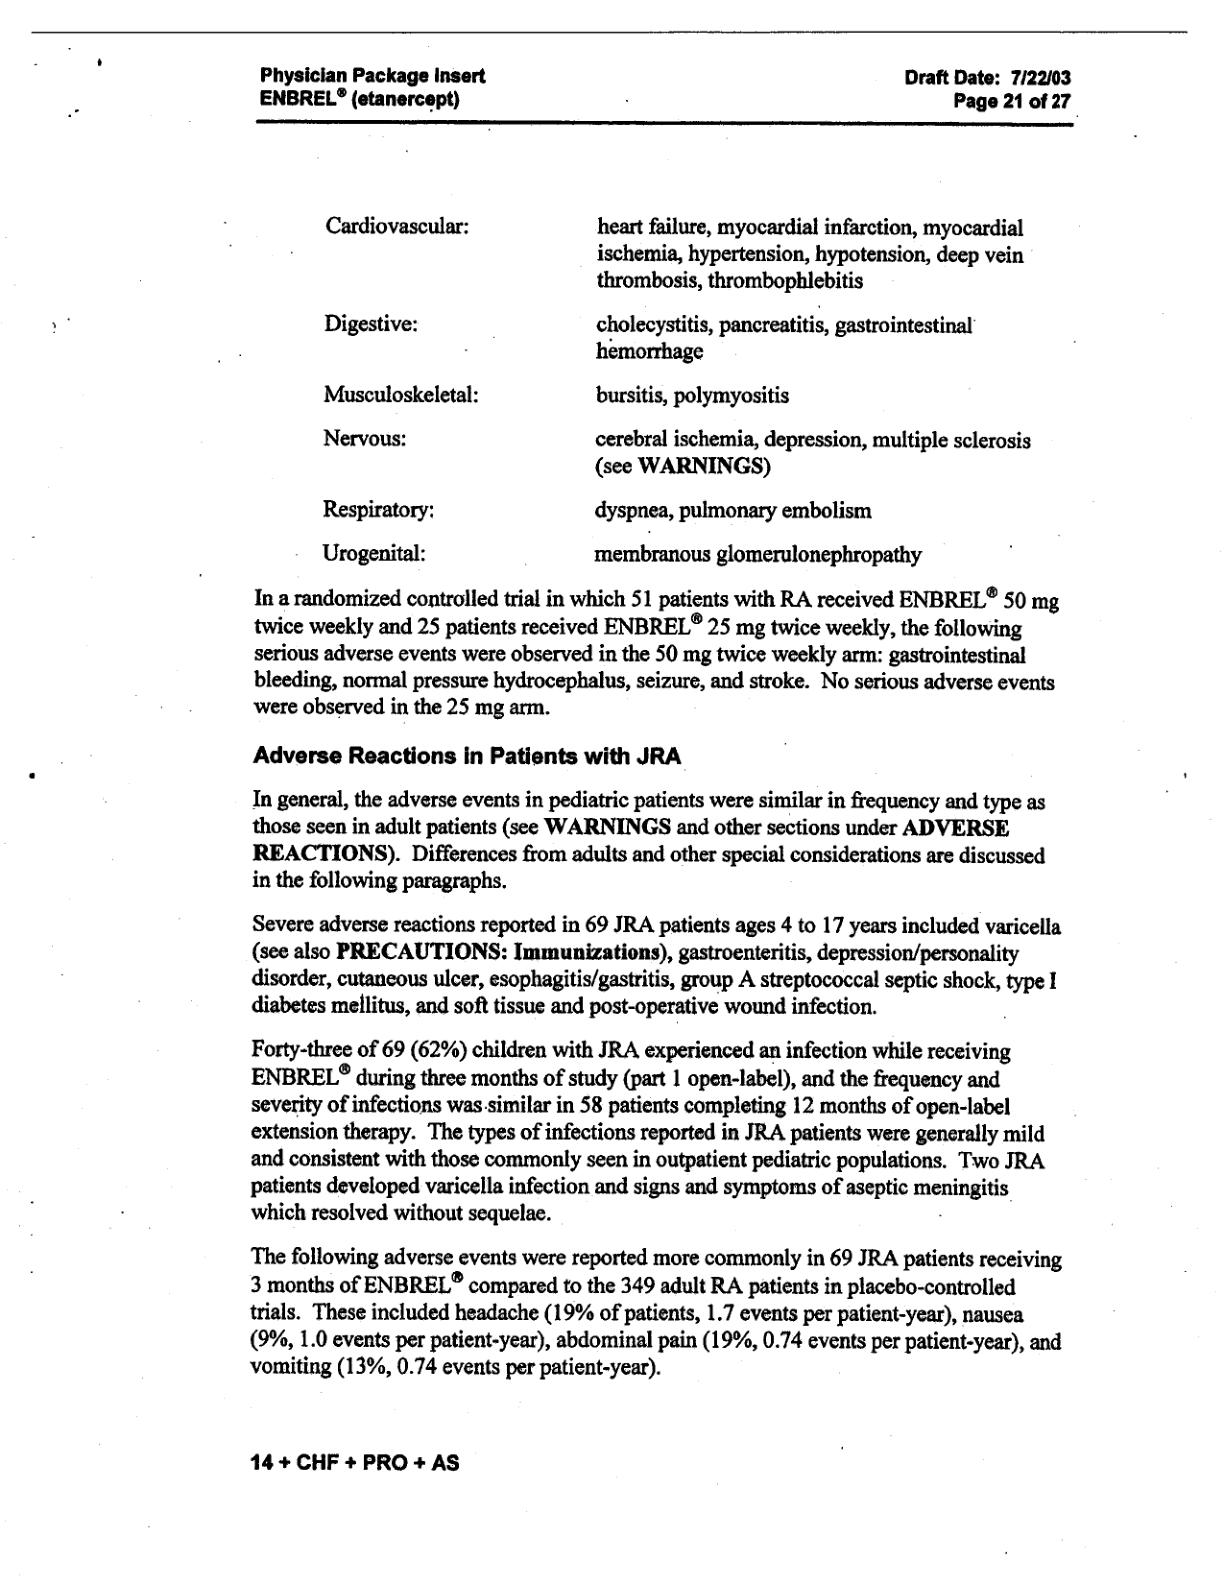nolines: (323, 211, 1035, 570)
